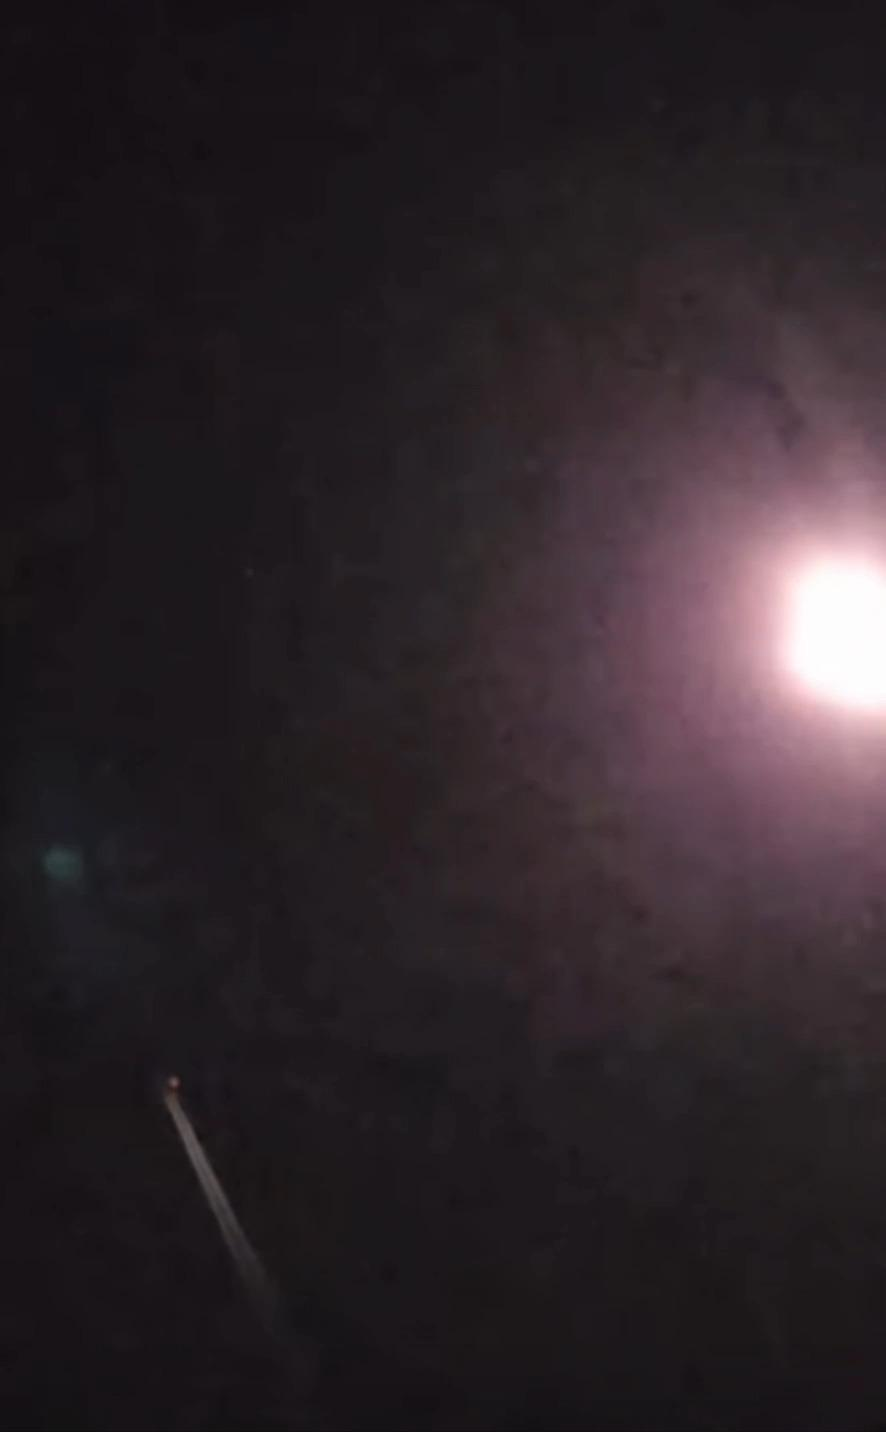Plane: (137, 1054, 278, 1273)
